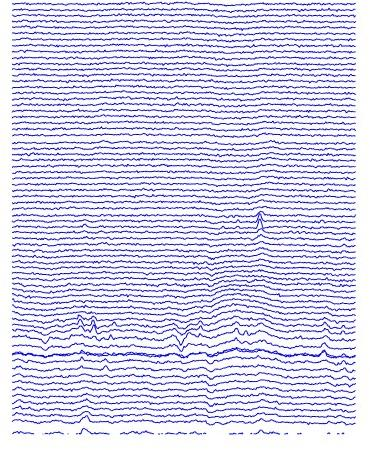defect: (170, 316, 207, 360), (77, 312, 104, 338), (256, 207, 266, 239)
